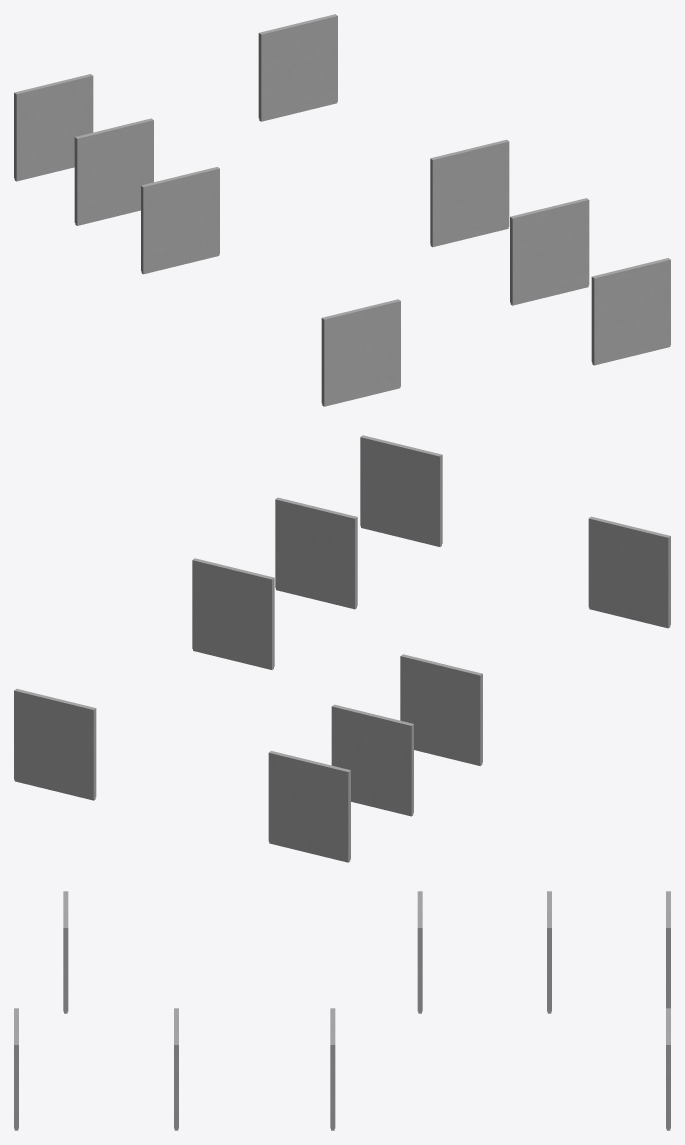
File: Hall_Partition wall.FBX
3 views of the same model, one above another, from view 1: azimuth 30°, elevation 25°; view 2: azimuth 150°, elevation 25°; view 3: azimuth 270°, elevation 25° (orthographic). The views are drawn at different scales.
Visible parts, largest first — view 1: Hall_Partition wall; view 2: Hall_Partition wall; view 3: Hall_Partition wall.
Part boxes in pixels (x1=…): Hall_Partition wall: x1=14, y1=14, x2=670, y2=406; Hall_Partition wall: x1=14, y1=435, x2=670, y2=862; Hall_Partition wall: x1=14, y1=891, x2=670, y2=1130.
Size of the model in its own units: 13048 by 3406 by 23584.
1 material, 1 textured.
